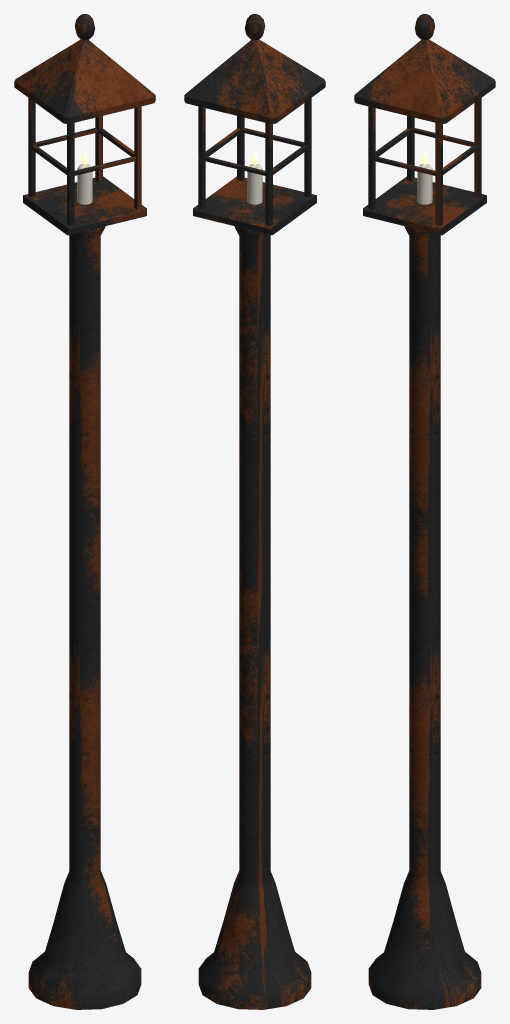
Rendered from LampPost.gltf.
3 views of the same model, side by side, from view 1: azimuth 30°, elevation 25°; view 2: azimuth 150°, elevation 25°; view 3: azimuth 330°, elevation 25° (orthographic).
Parts seen in each view (by area): view 1: LampPost; view 2: LampPost; view 3: LampPost.
Part boxes in pixels (x1,y1,x2,y2): LampPost: (14,14,155,1009); LampPost: (184,14,325,1009); LampPost: (354,14,495,1009).
Bounding box in the file's own units: 0.32 × 3.04 × 0.312.
3 materials, 1 textured.
